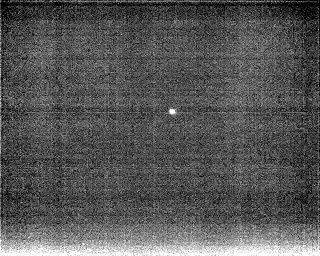AIRPLANE: (167, 106, 178, 117)
